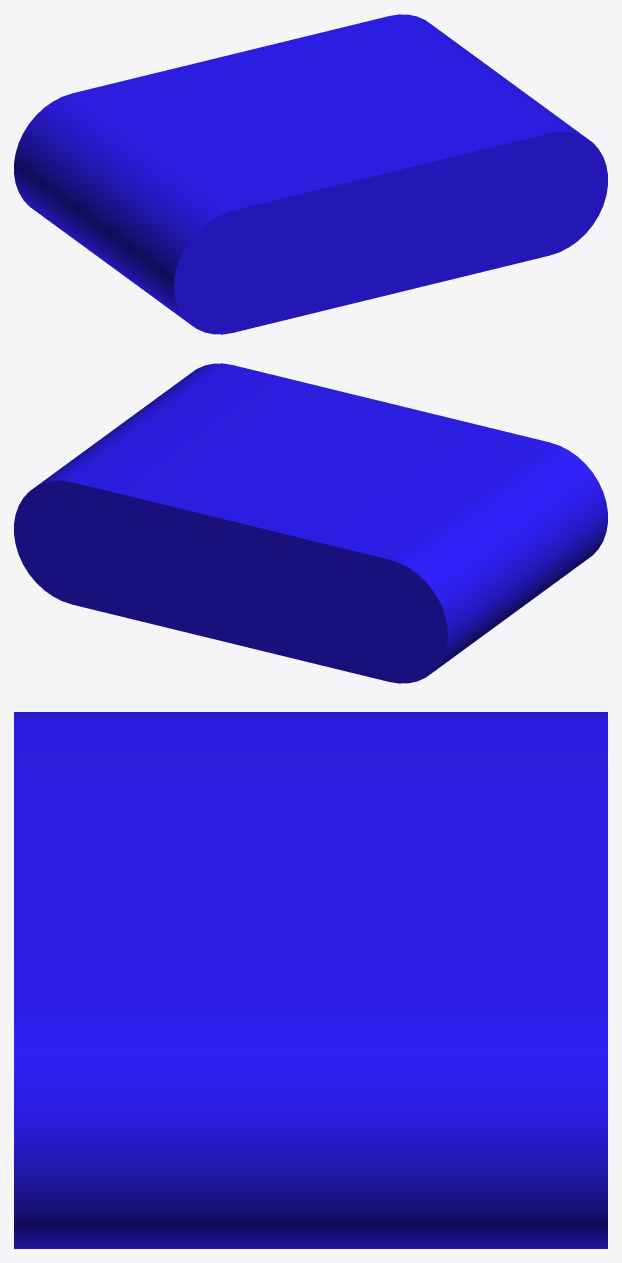
The model's file is auto_base.DAE.
3 views of the same model, one above another, from view 1: azimuth 30°, elevation 25°; view 2: azimuth 150°, elevation 25°; view 3: azimuth 270°, elevation 25° (orthographic). The views are drawn at different scales.
Parts seen in each view (by area): view 1: auto_base; view 2: auto_base; view 3: auto_base.
Boxes of the visible parts, box(x1,y1,x2,y2) form: auto_base: box(14, 14, 607, 334); auto_base: box(14, 363, 607, 683); auto_base: box(14, 712, 607, 1248).
Size of the model in its own units: 21.75 by 5.86 by 13.91.
